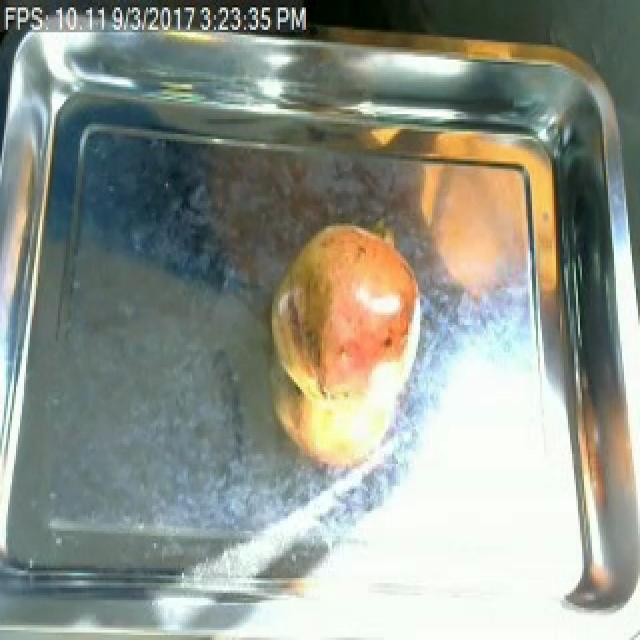fruit: (256, 203, 436, 439)
